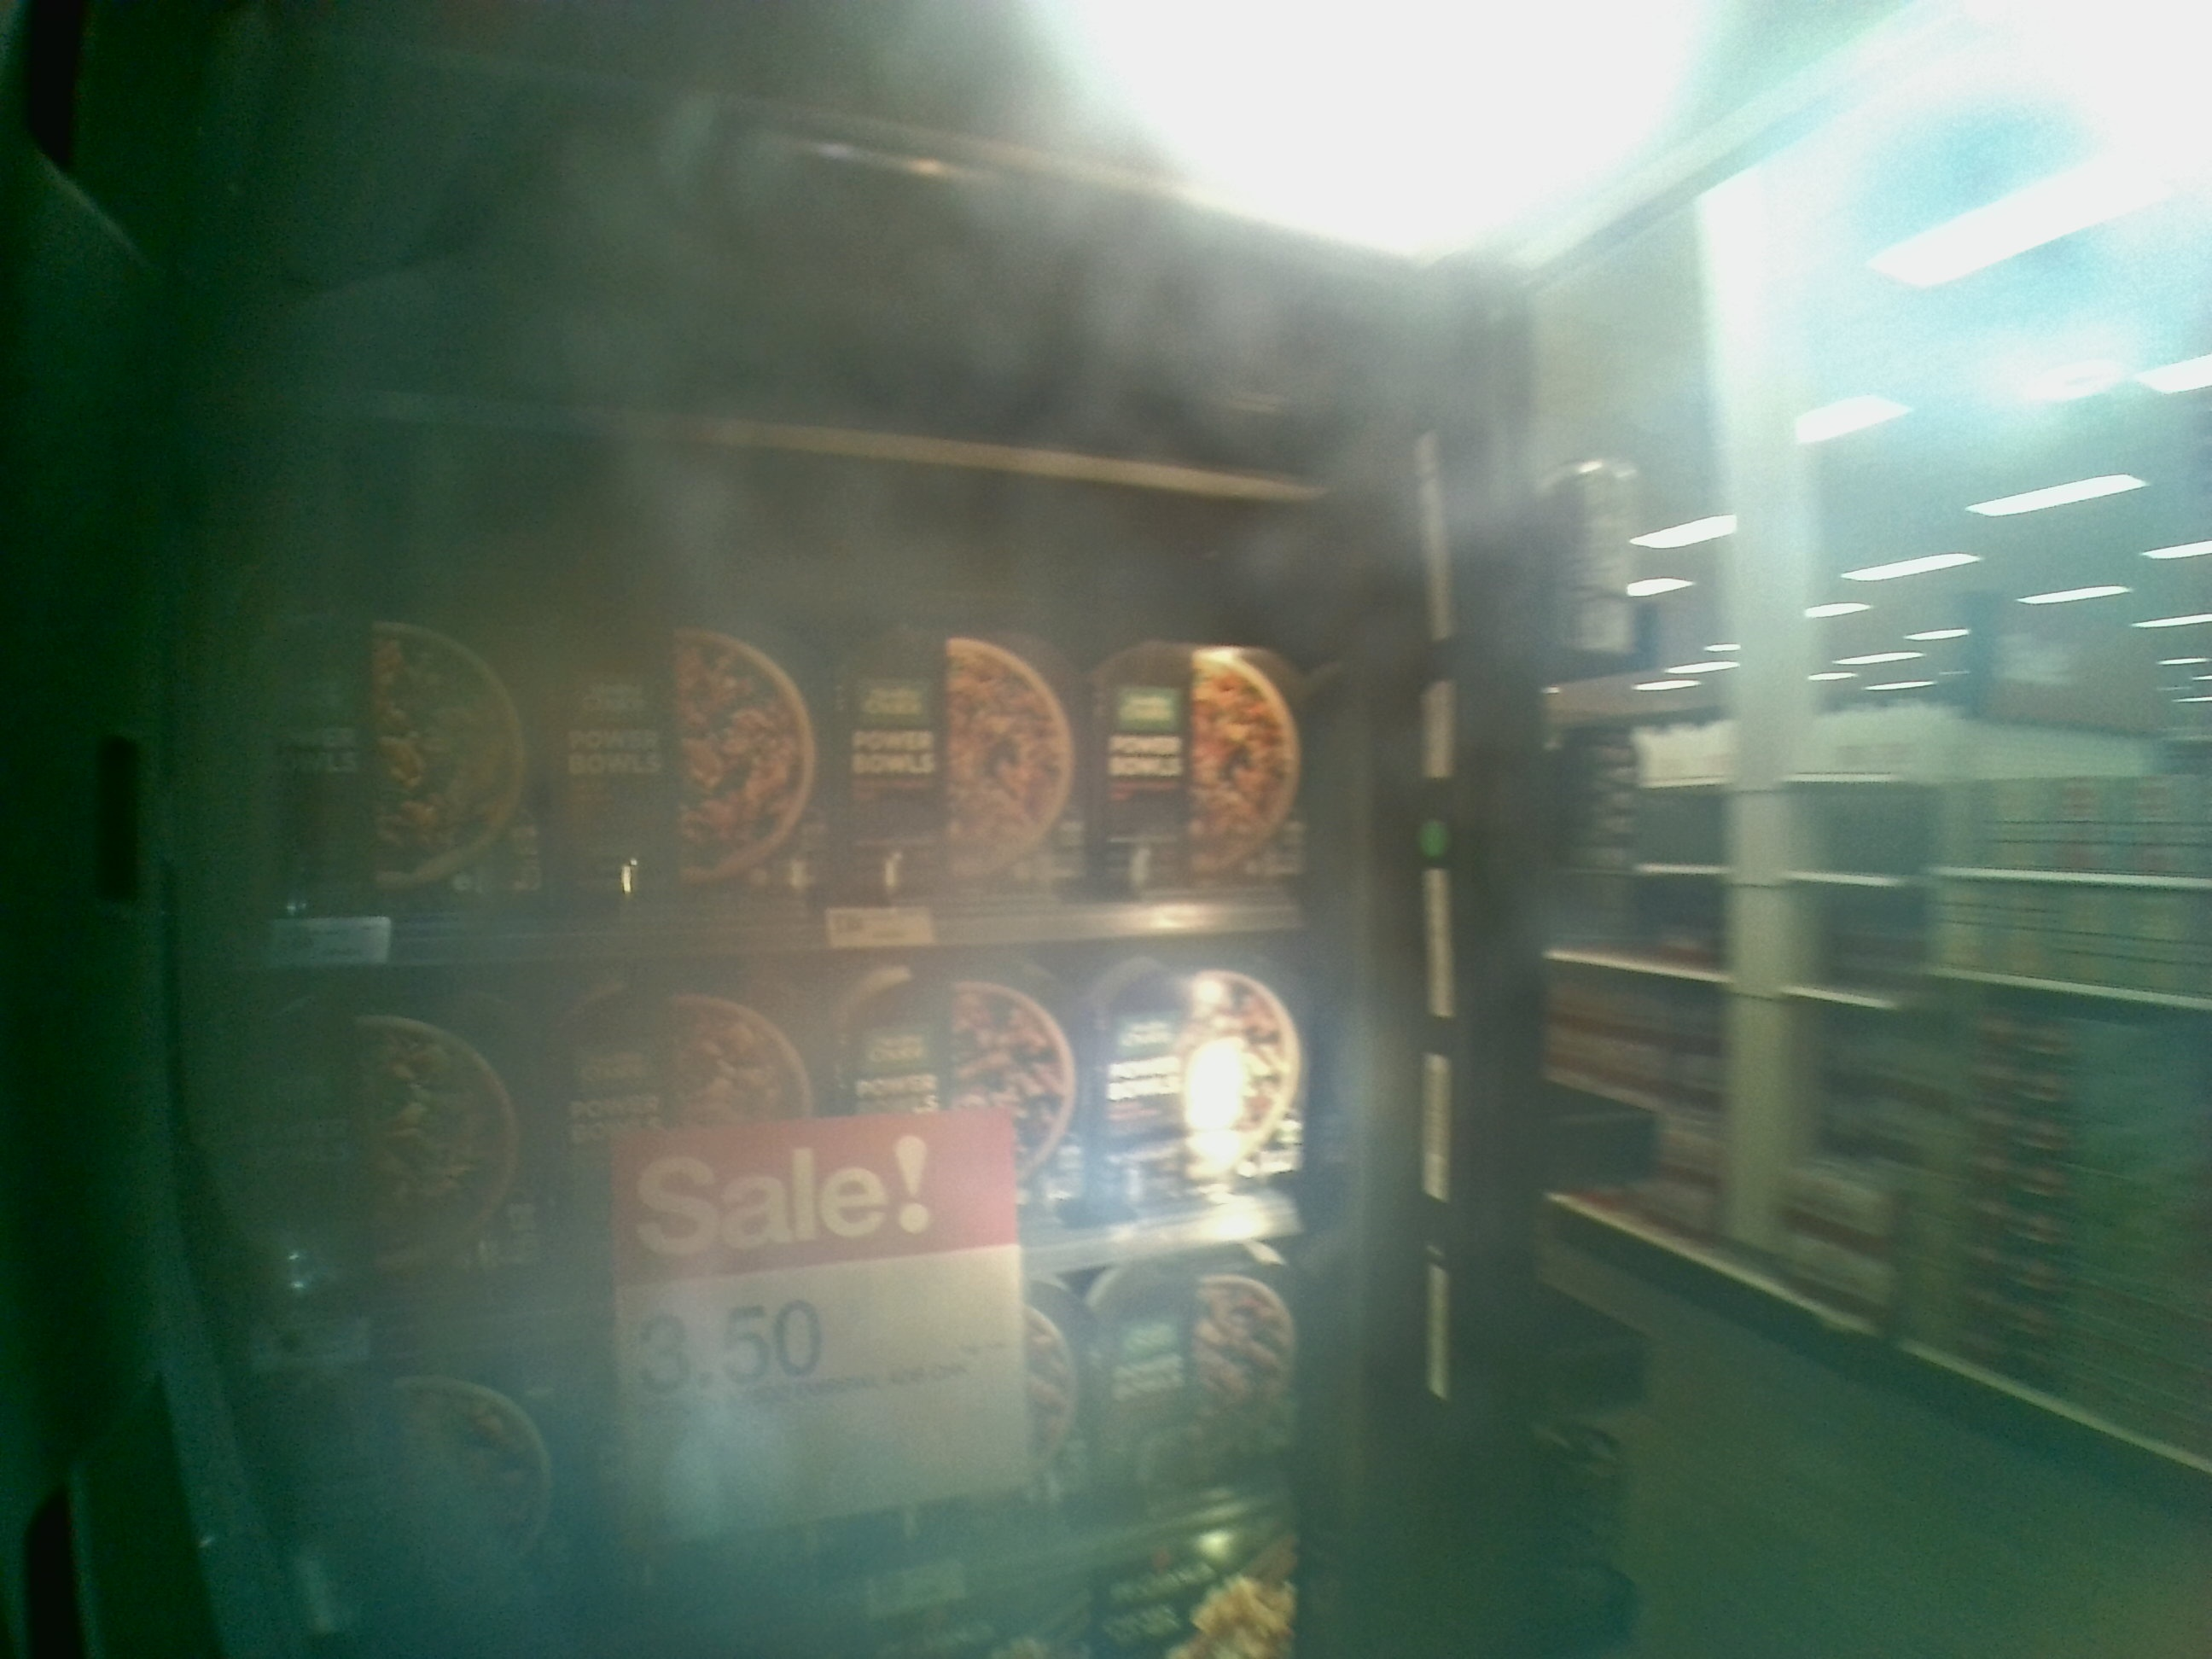shelf: (228, 382, 1362, 955)
